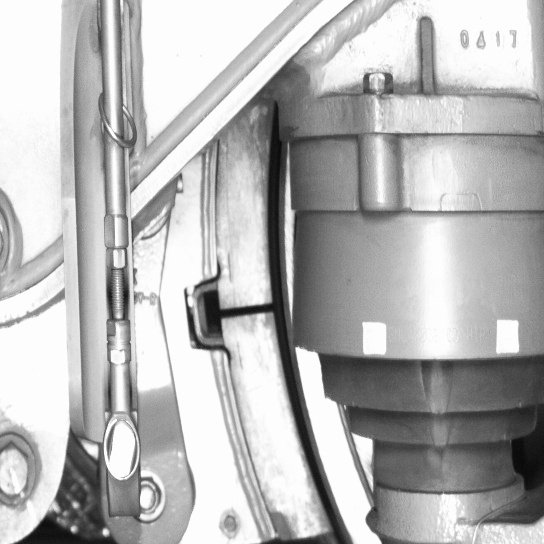KnifeSwitch: (219, 134, 357, 543)
